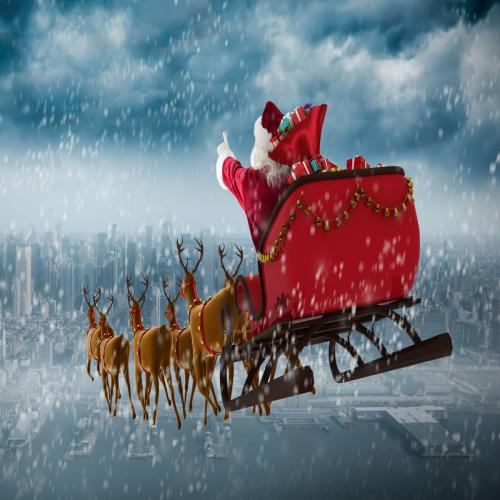Santa: (215, 100, 288, 254)
